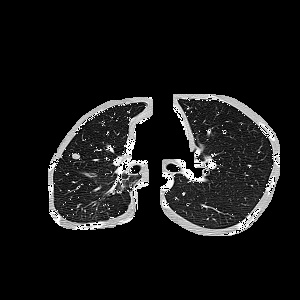PN: (72, 152, 80, 160)
